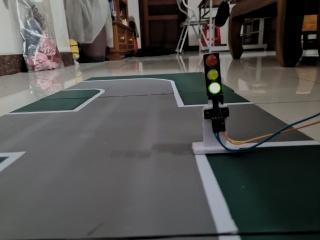green: (201, 46, 230, 110)
